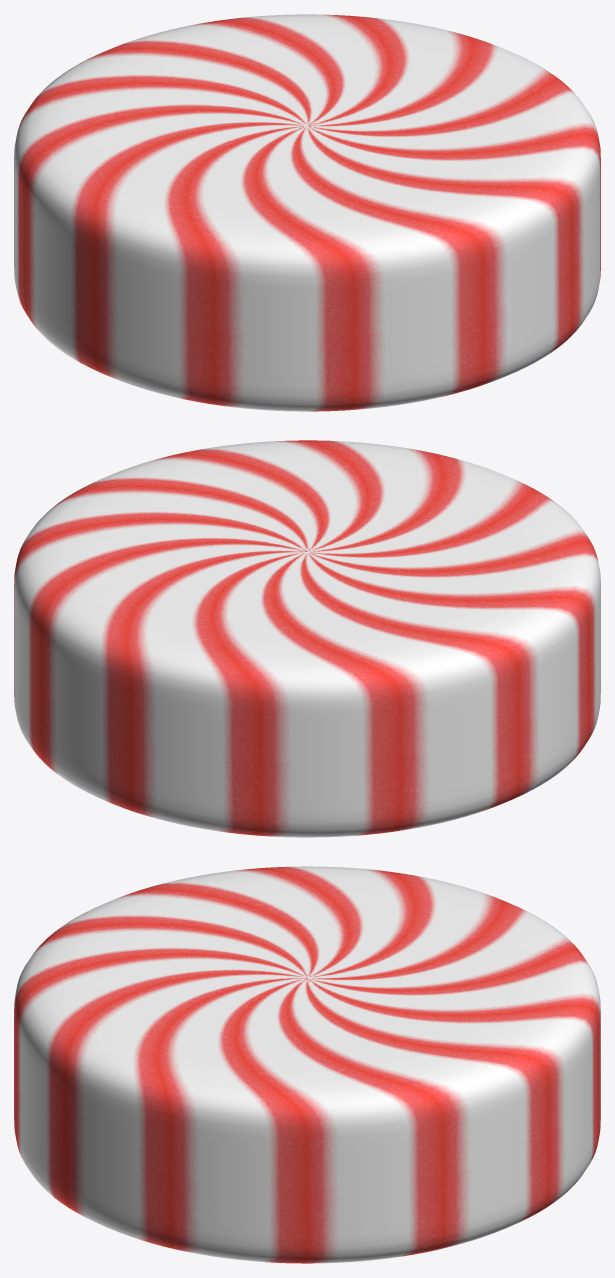
The model's file is peppermint candy.fbx.
The picture shows the model from 3 angles, top to bottom: view 1: azimuth 30°, elevation 25°; view 2: azimuth 150°, elevation 25°; view 3: azimuth 270°, elevation 25°; orthographic projection.
Parts seen in each view (by area): view 1: peppermint candy; view 2: peppermint candy; view 3: peppermint candy.
Boxes of the visible parts, x1,y1,x2,y2 form: peppermint candy: (14, 14, 600, 411); peppermint candy: (14, 440, 600, 837); peppermint candy: (14, 866, 600, 1263).
Size of the model in its own units: 199 by 65 by 199.
